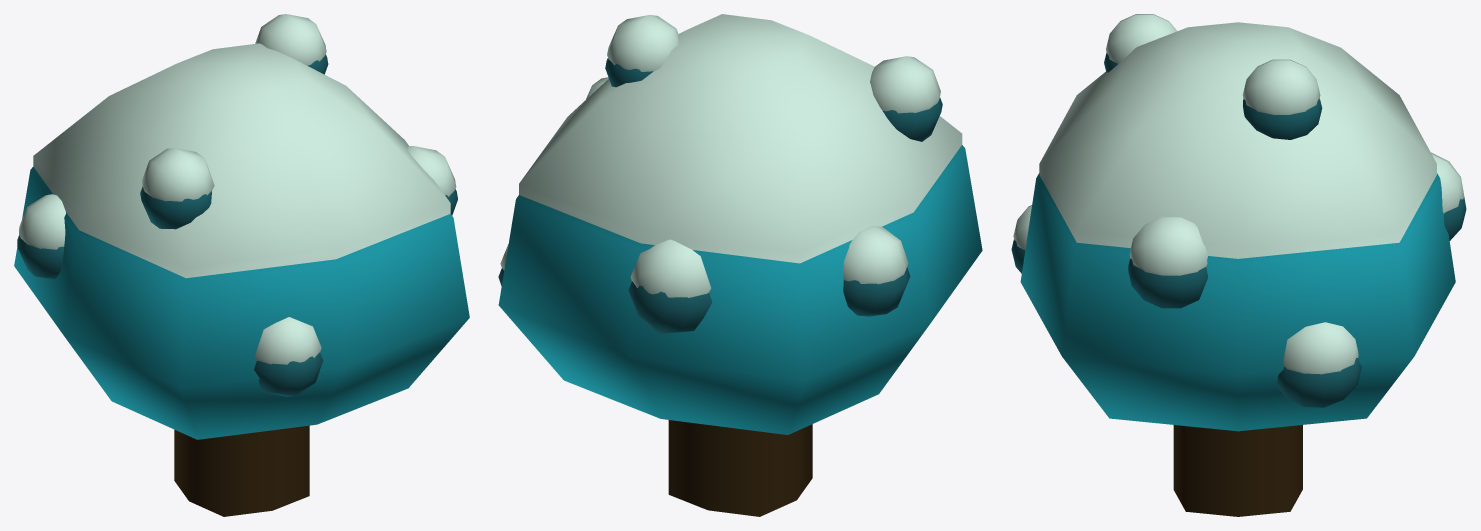
The model's file is winter-tree-apples-short-v2.glb.
3 views of the same model, side by side, from view 1: azimuth 30°, elevation 25°; view 2: azimuth 150°, elevation 25°; view 3: azimuth 270°, elevation 25° (orthographic). The views are drawn at different scales.
Parts seen in each view (by area): view 1: WinterTreeApplesShort_v2; view 2: WinterTreeApplesShort_v2; view 3: WinterTreeApplesShort_v2.
Part boxes in pixels (box(x1,y1,x2,y2)): WinterTreeApplesShort_v2: box(14, 14, 469, 516); WinterTreeApplesShort_v2: box(498, 14, 982, 516); WinterTreeApplesShort_v2: box(1011, 14, 1466, 516).
Size of the model in its own units: 173 by 195 by 173.
1 material, 1 textured.
